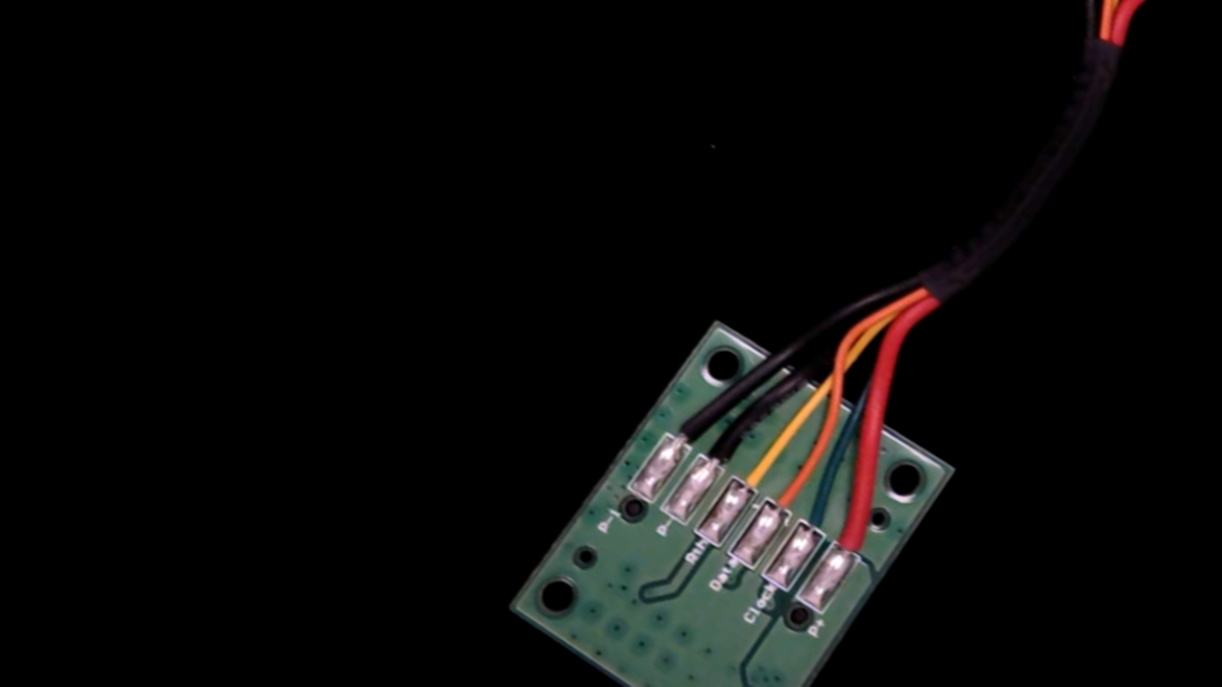Black: (690, 406, 763, 485)
Black1: (656, 389, 727, 463)
Green: (788, 480, 854, 549)
Orange: (756, 458, 823, 529)
Red: (821, 498, 891, 573)
Yellow: (723, 432, 793, 508)
